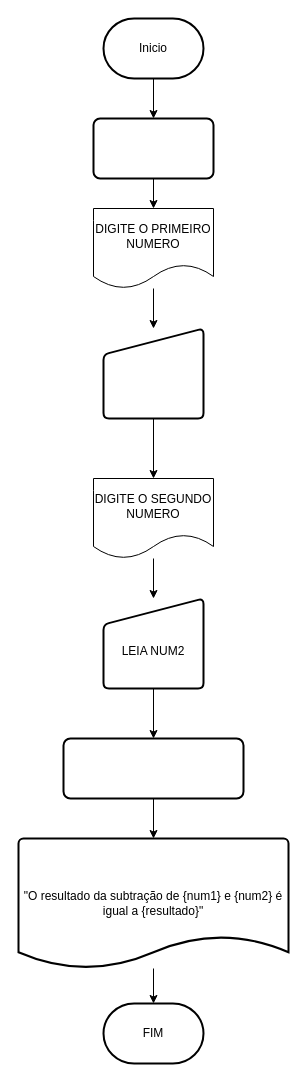
The diagram is 306 pixels wide and 1081 high, and some of its shapes have lost their labels. Each missing label, with the centre of its shape:
"Declare num1, num2, resultado como float" goes at (153,148).
"LEIA NUM1" goes at (153,373).
"resultado = num1 - num2;" goes at (153,768).
